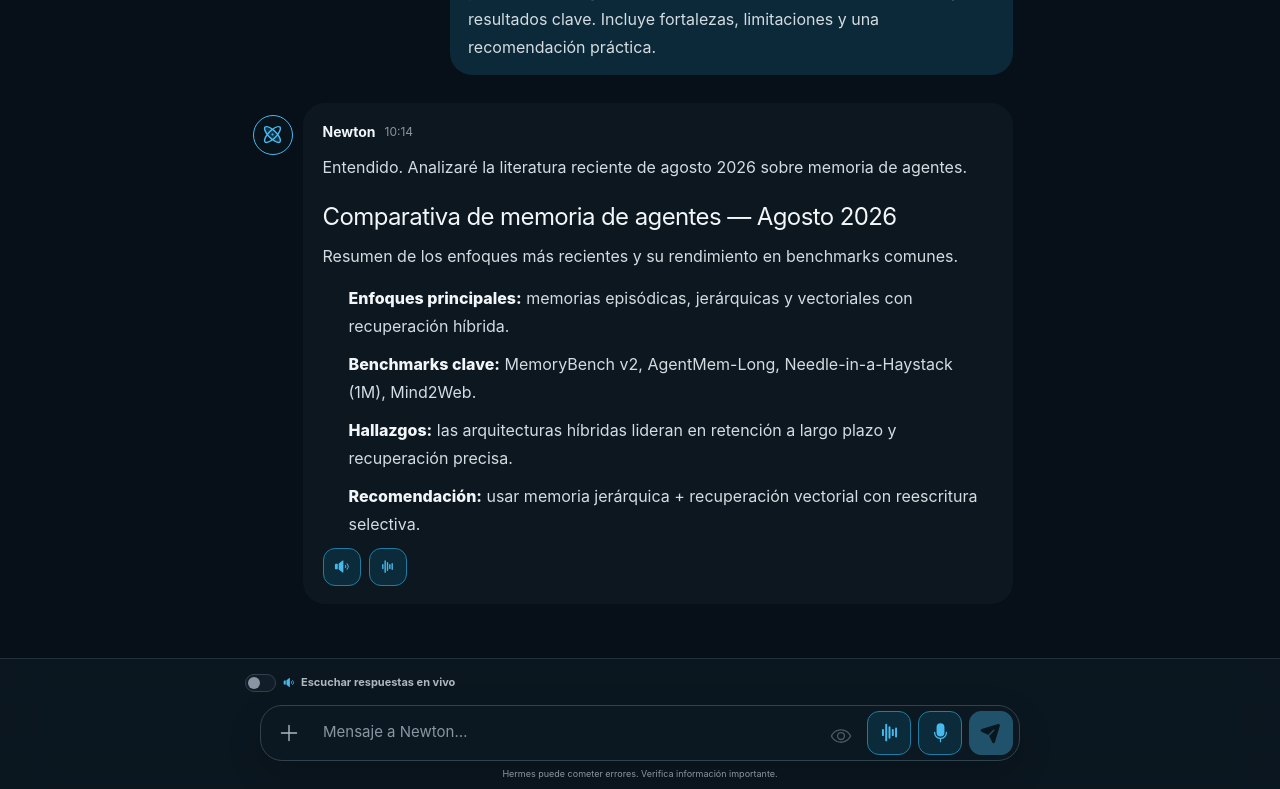
live voice in the chat › offers a separate Live explanation of a saved response without starting speech playback or submitting work
(page scrolled)
Expected: the button named "Escuchar esta respuesta" is enabled, [322,548,360,586]
What coordinates should you click on to do the following:
click the button named "Explicar con GPT Live"
I would click on:
 (388, 566)
Its box is [368,548,406,586].
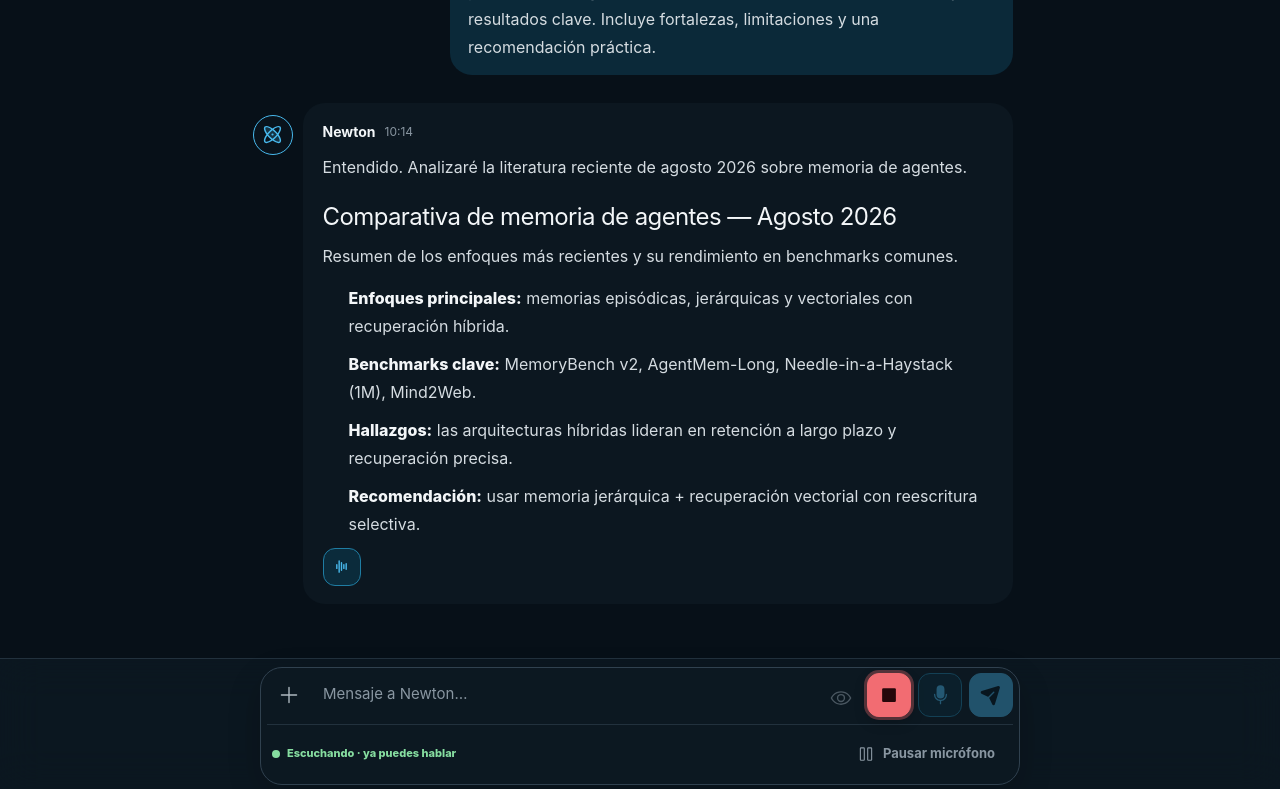
Expected: the button named "Explicar con GPT Live" has class "is-selected", [322,548,360,586]
What coordinates should you click on to do the following:
click the button named "Terminar conversación de voz"
I would click on:
 (889, 694)
Its box is [867,672,911,716].
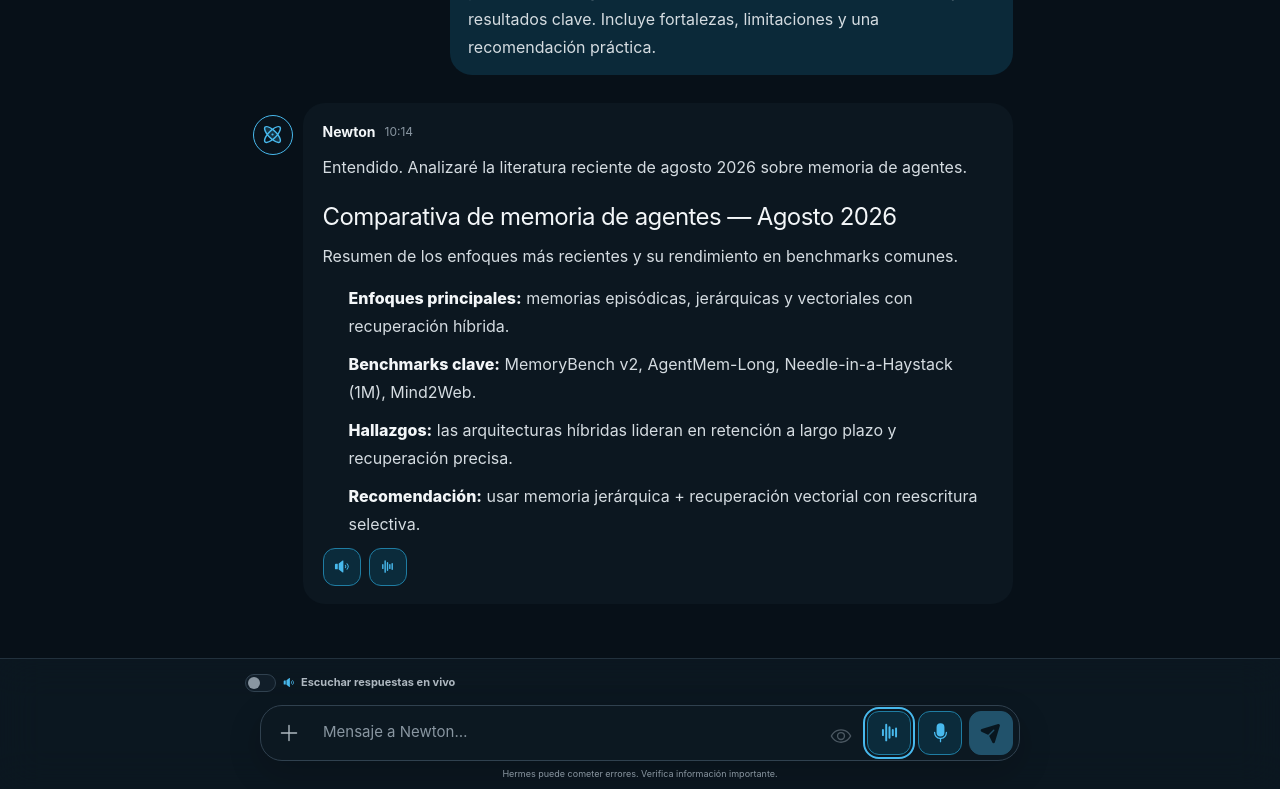
Expected: the button named "Escuchar esta respuesta" is enabled, [322,548,360,586]
